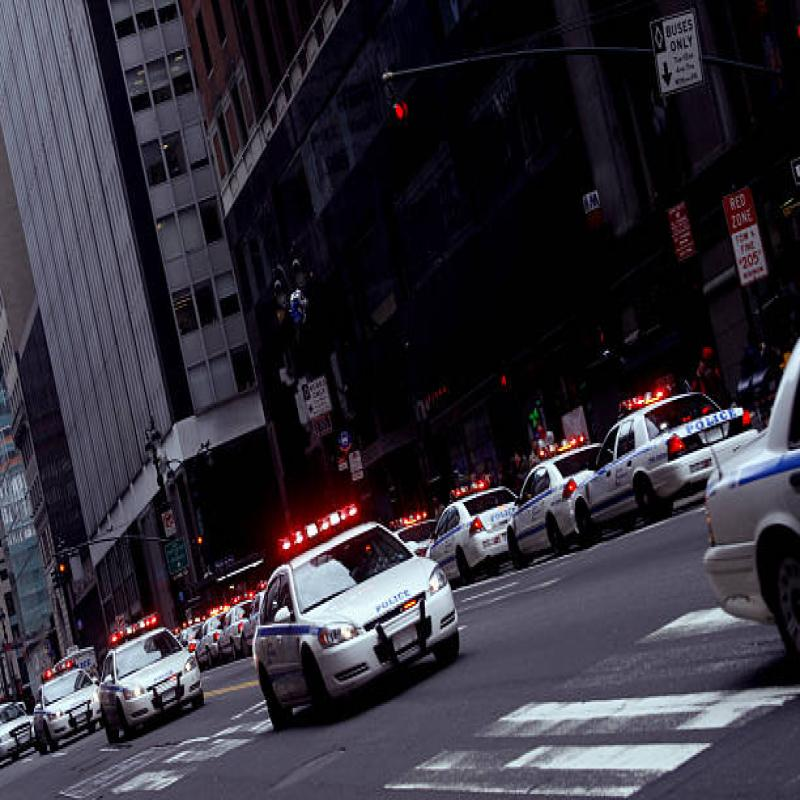AmbulanceSiren: (93, 590, 176, 658), (268, 502, 370, 556), (531, 423, 600, 474), (609, 369, 672, 420)
